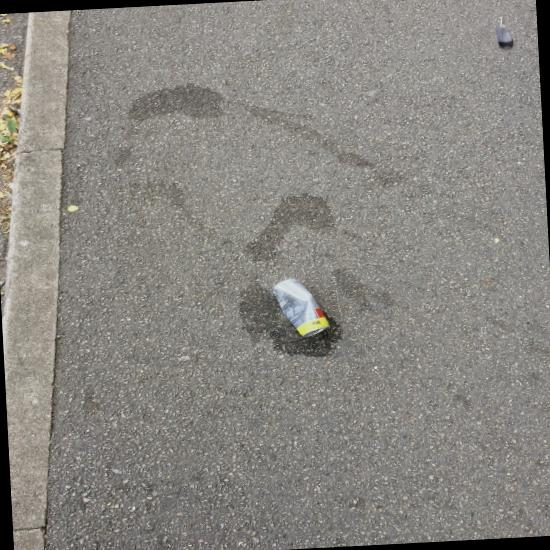Drink can: (272, 279, 330, 337)
Pop tab: (311, 329, 321, 336)
